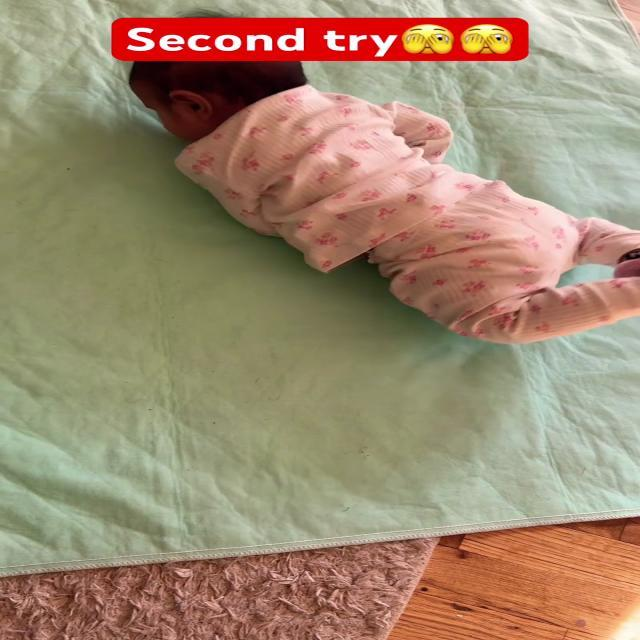baby: (121, 45, 640, 354)
